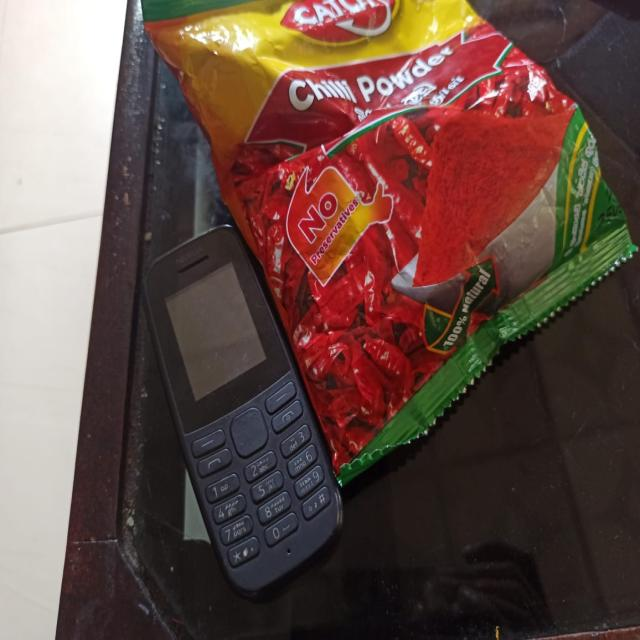Chilli Powder: (139, 0, 628, 461)
